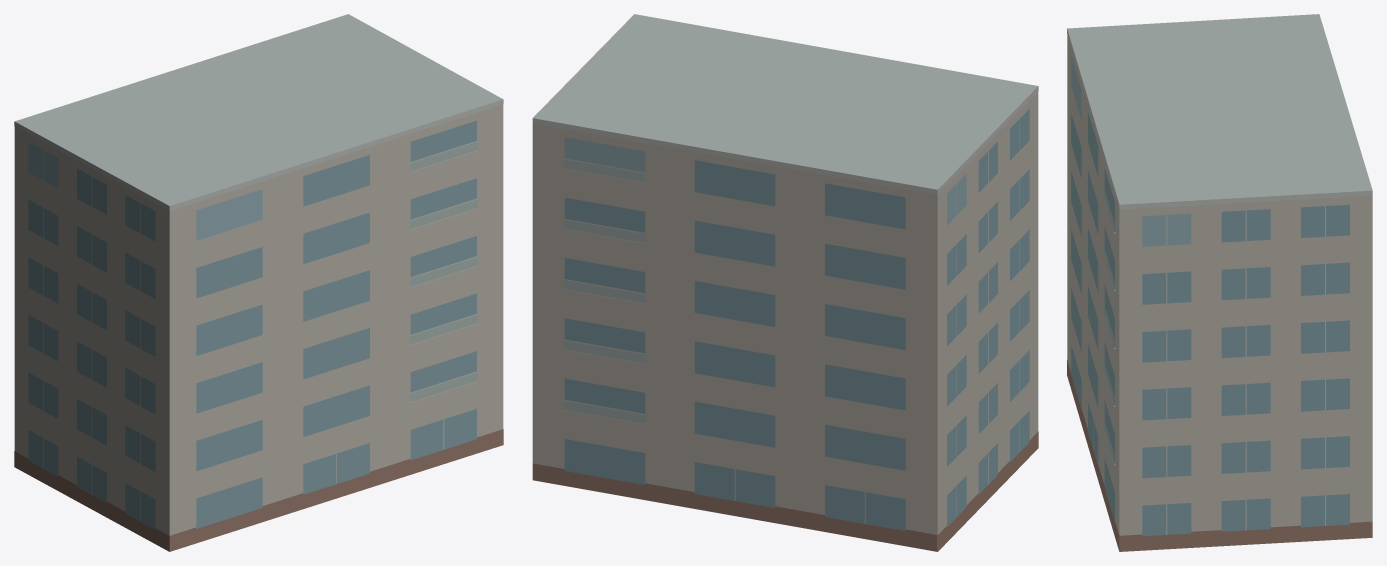
Rendered from survey-upis-32894097.glb.
3 views of the same model, side by side, from view 1: azimuth 30°, elevation 25°; view 2: azimuth 150°, elevation 25°; view 3: azimuth 270°, elevation 25° (orthographic). The views are drawn at different scales.
Visible parts, largest first — view 1: survey-upis-32894097.tmp; view 2: survey-upis-32894097.tmp; view 3: survey-upis-32894097.tmp.
Boxes of the visible parts, x1,y1,x2,y2 form: survey-upis-32894097.tmp: (14,14,503,551); survey-upis-32894097.tmp: (532,14,1038,551); survey-upis-32894097.tmp: (1067,14,1372,551).
Bounding box in the file's own units: 20.28 × 17.2 × 13.73.
